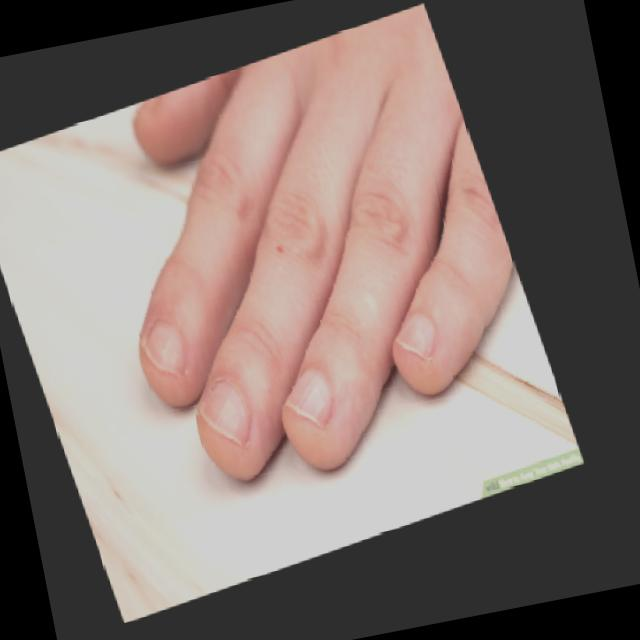Nail: (196, 382, 247, 446), (284, 369, 331, 426), (143, 321, 185, 376), (396, 314, 434, 358)
